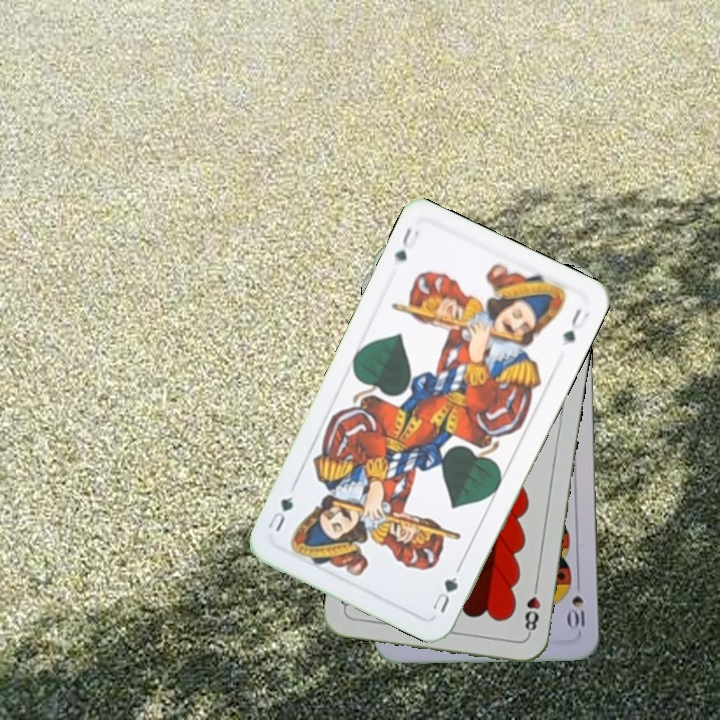GU: (428, 572, 461, 616), (390, 223, 422, 264)
H8: (520, 579, 543, 638)
S10: (566, 575, 588, 634)
